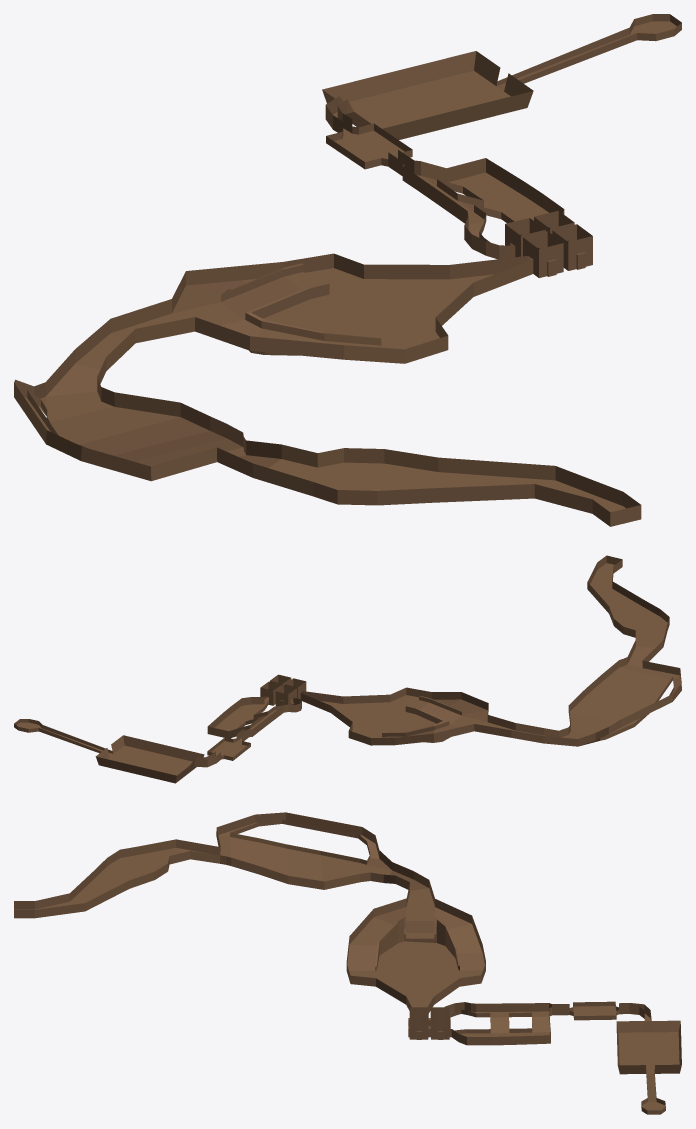
The model's file is level01.fbx.
3 renders of one model, top to bottom at view 1: azimuth 30°, elevation 25°; view 2: azimuth 150°, elevation 25°; view 3: azimuth 270°, elevation 25°, orthographic. The views are drawn at different scales.
Parts seen in each view (by area): view 1: Level01; view 2: Level01; view 3: Level01.
Boxes of the visible parts, left/top/right/bottom form: Level01: left=14, top=14, right=681, bottom=526; Level01: left=14, top=555, right=681, bottom=783; Level01: left=14, top=812, right=681, bottom=1114.
Size of the model in its own units: 136 by 143 by 11.55.
